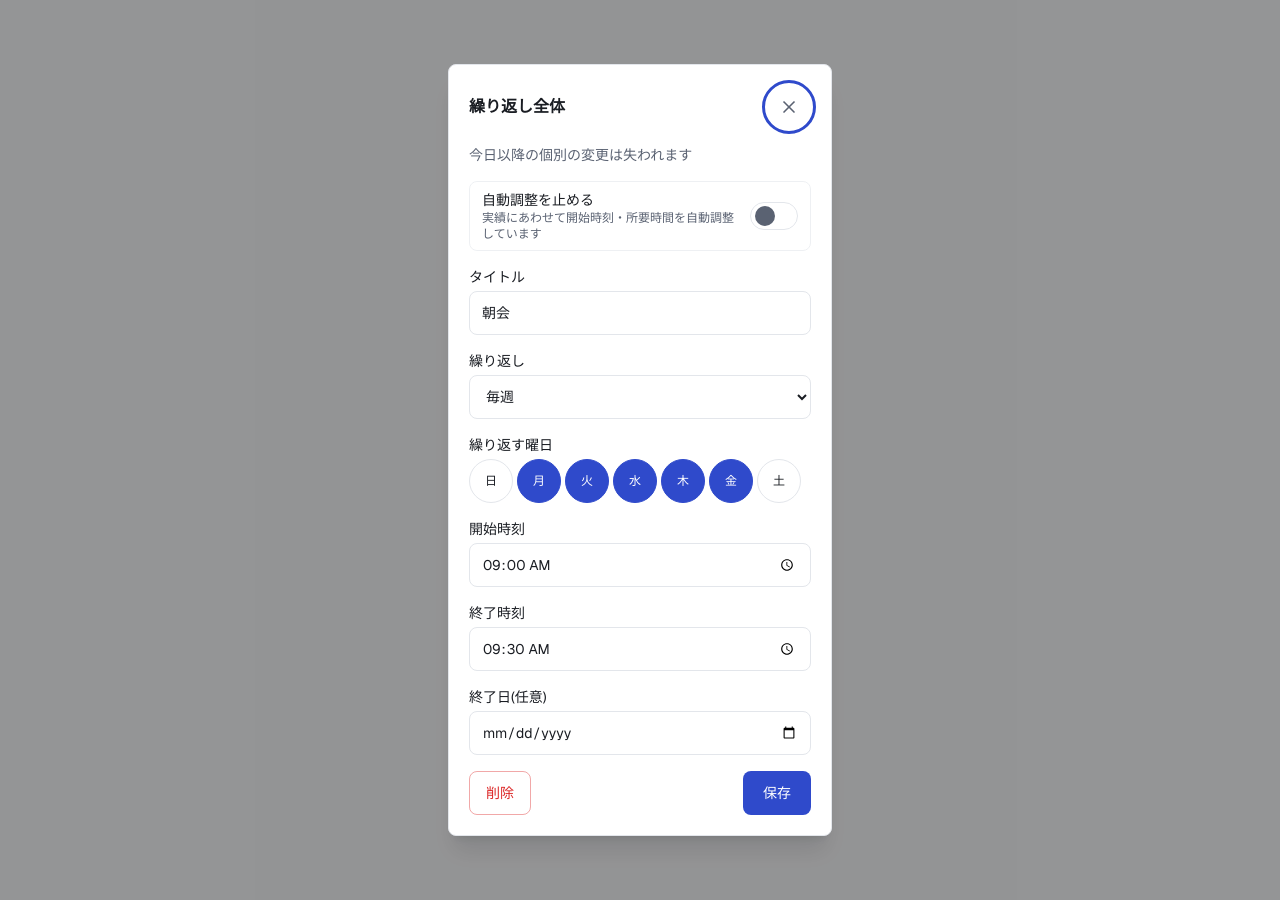
Test case: 学習停止トグル(T22) › T22: トグルをON When 成功 Then originを'manual'に更新するActionが呼ばれ、トグルの表示が消える
Click the switch named "自動調整を止める" at (774, 216), box [750,202,798,230]
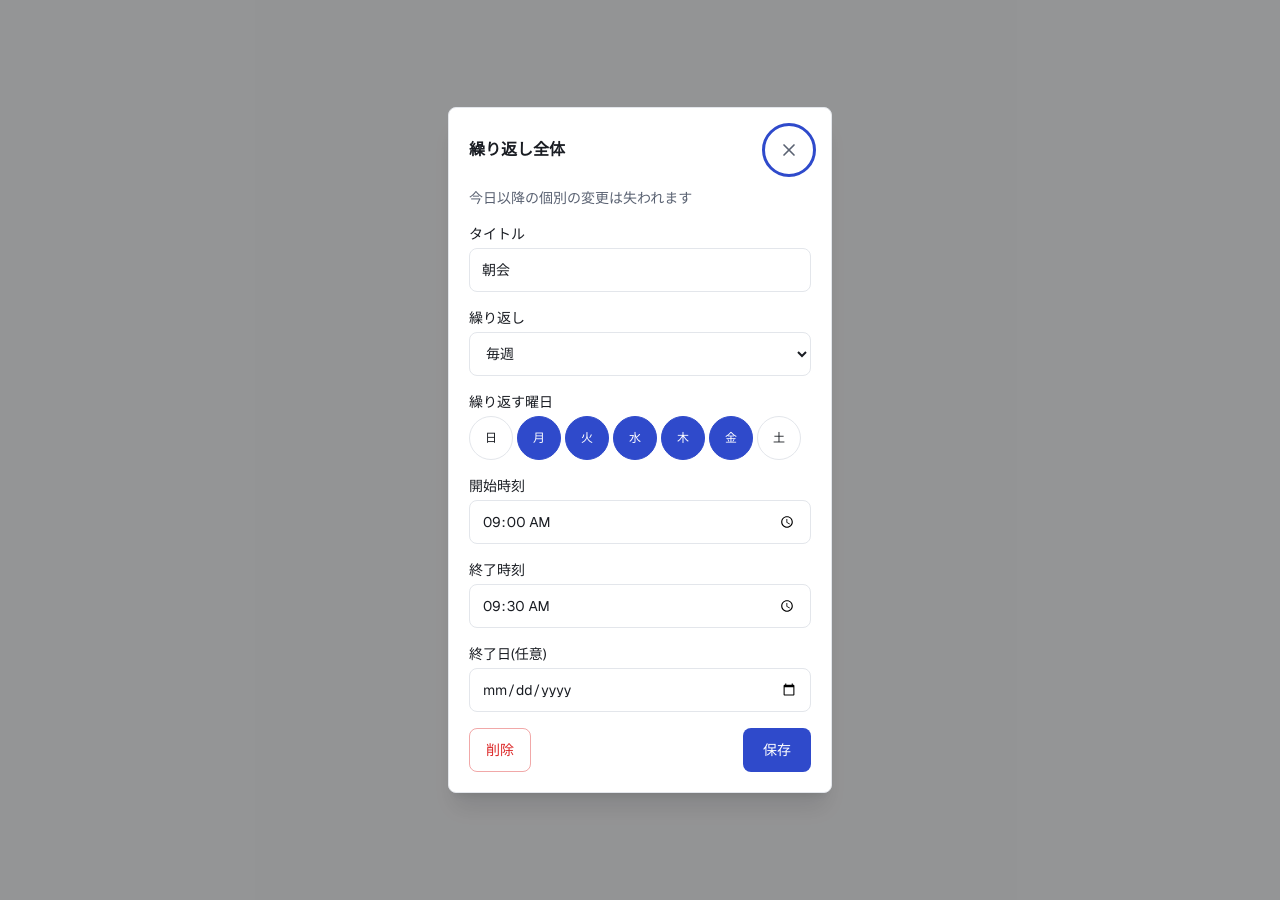
expect the text "自動調整を止める" is gone: met
